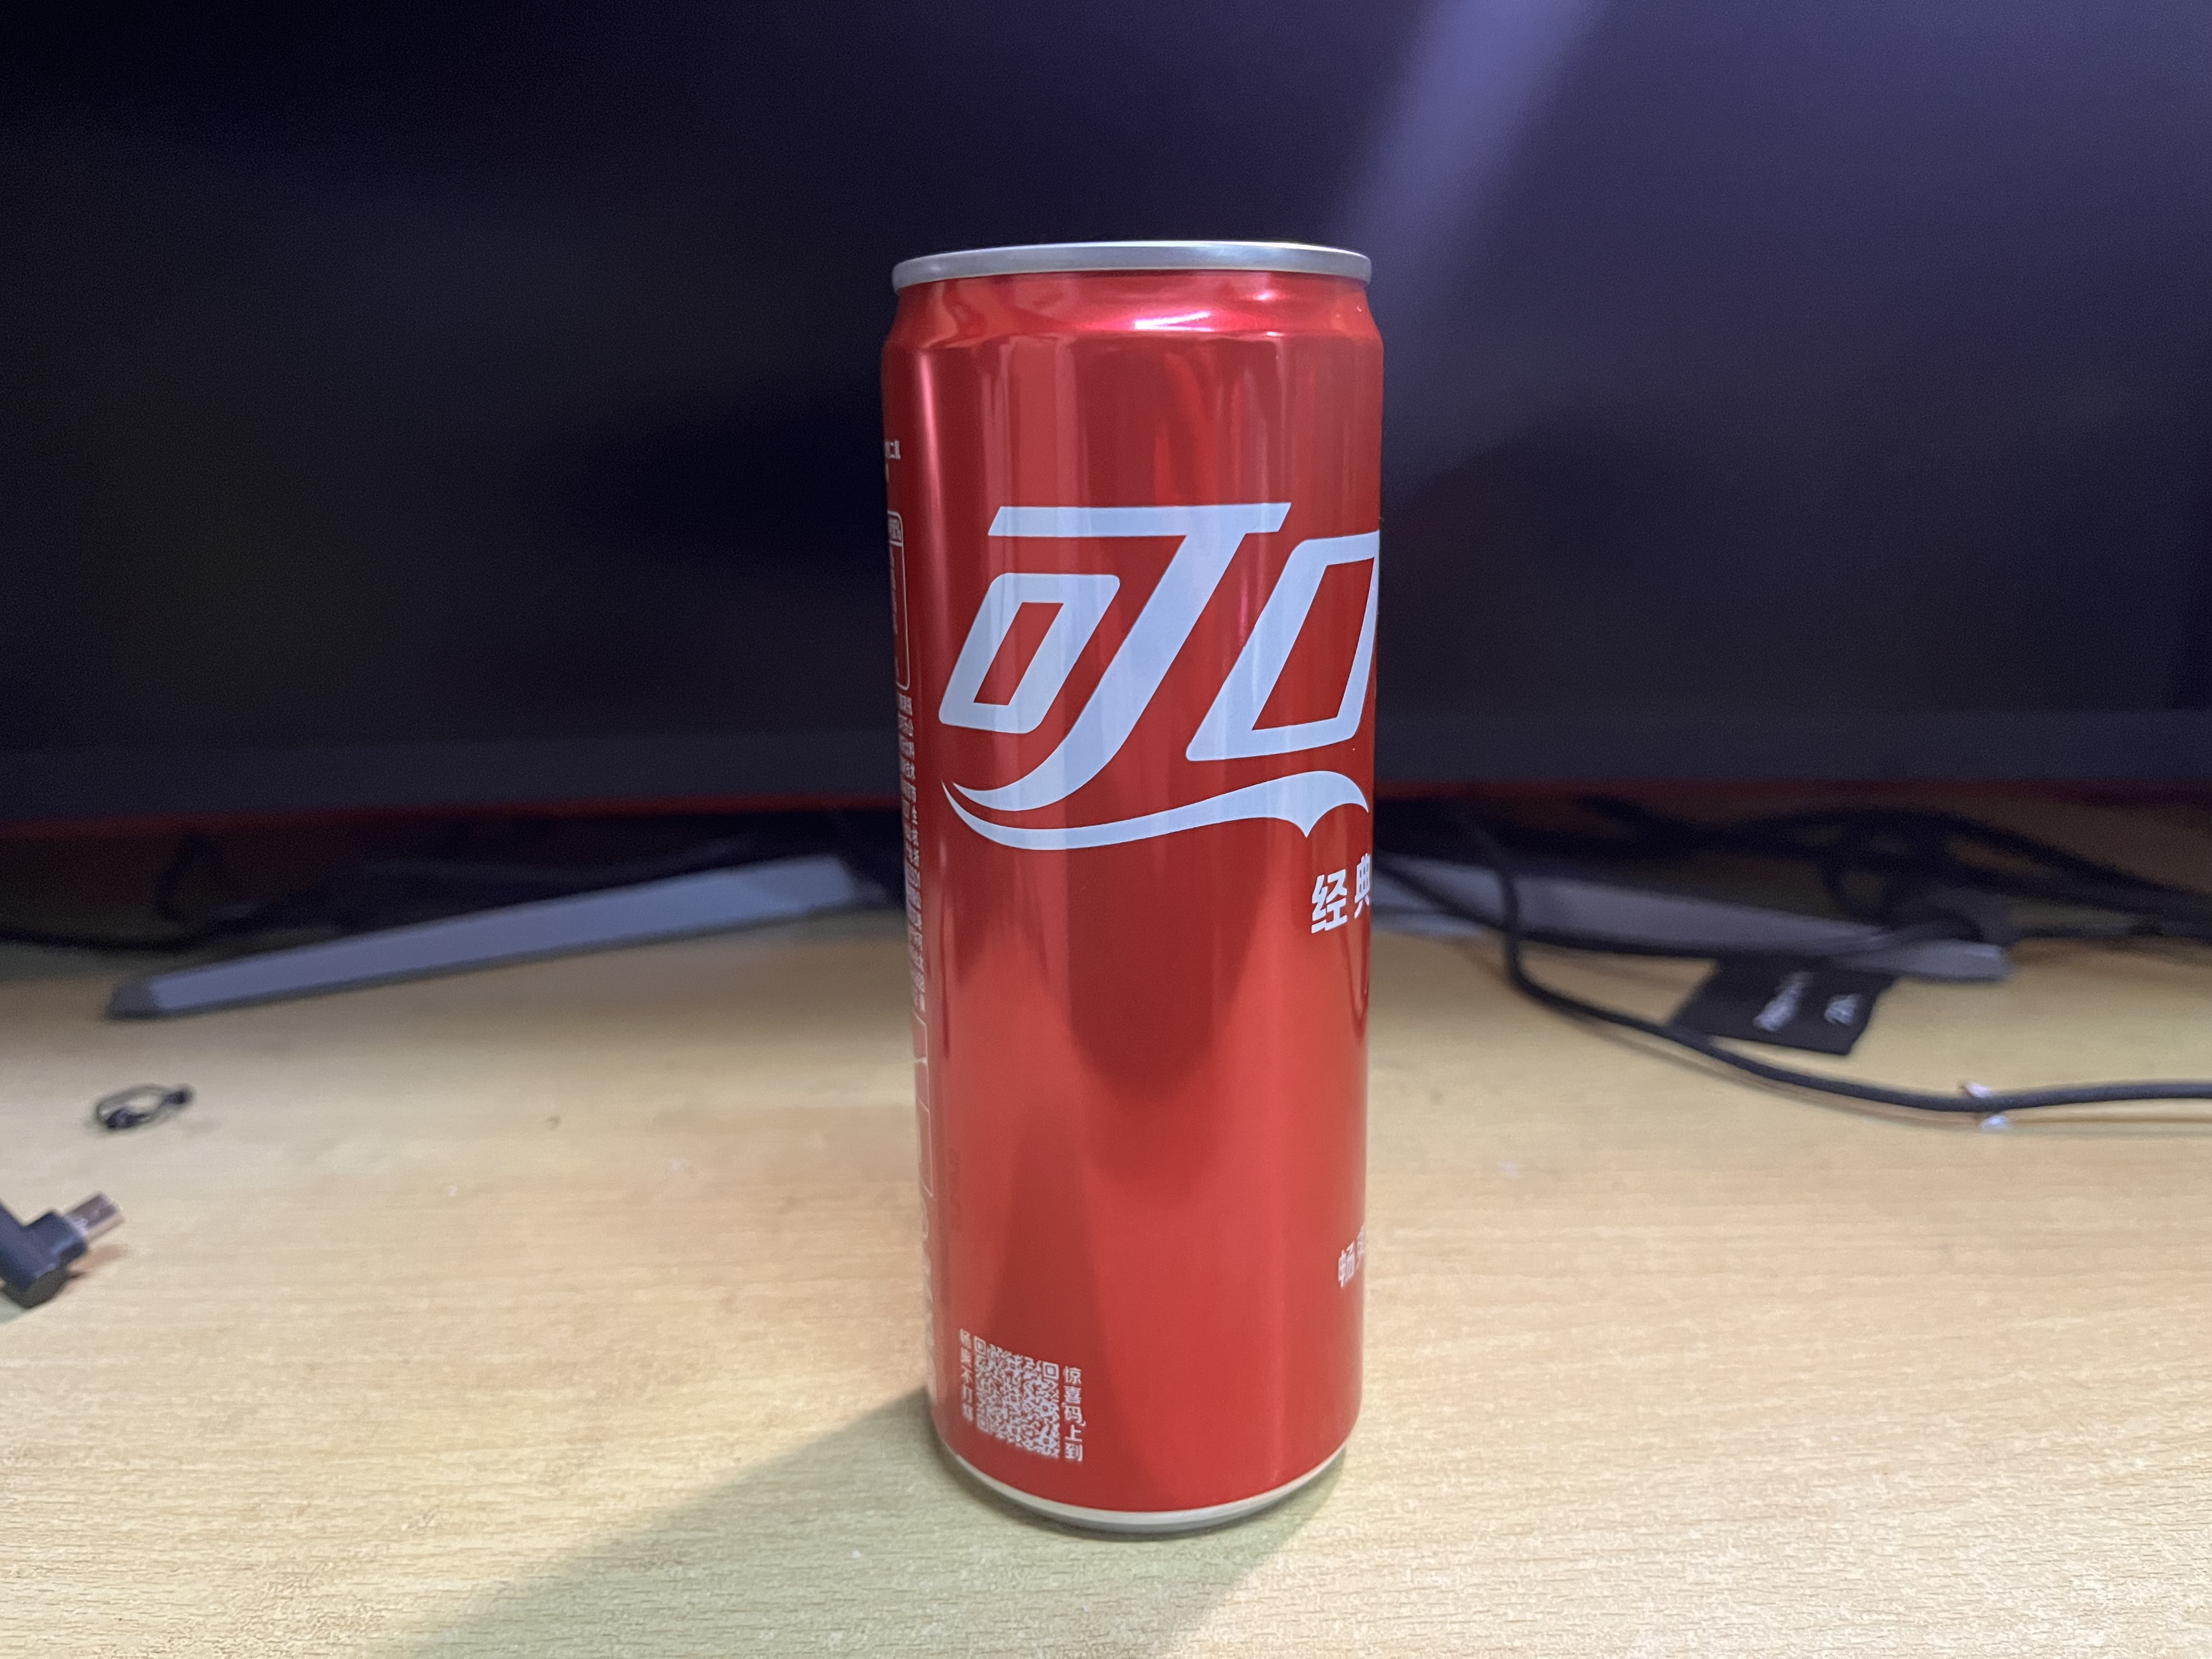CocaCola: (881, 244, 1388, 1528)
